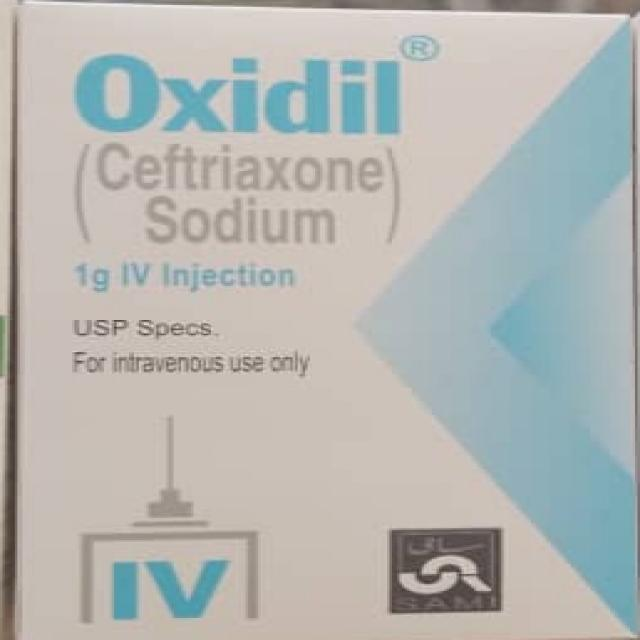drug-name: (74, 54, 401, 136)
